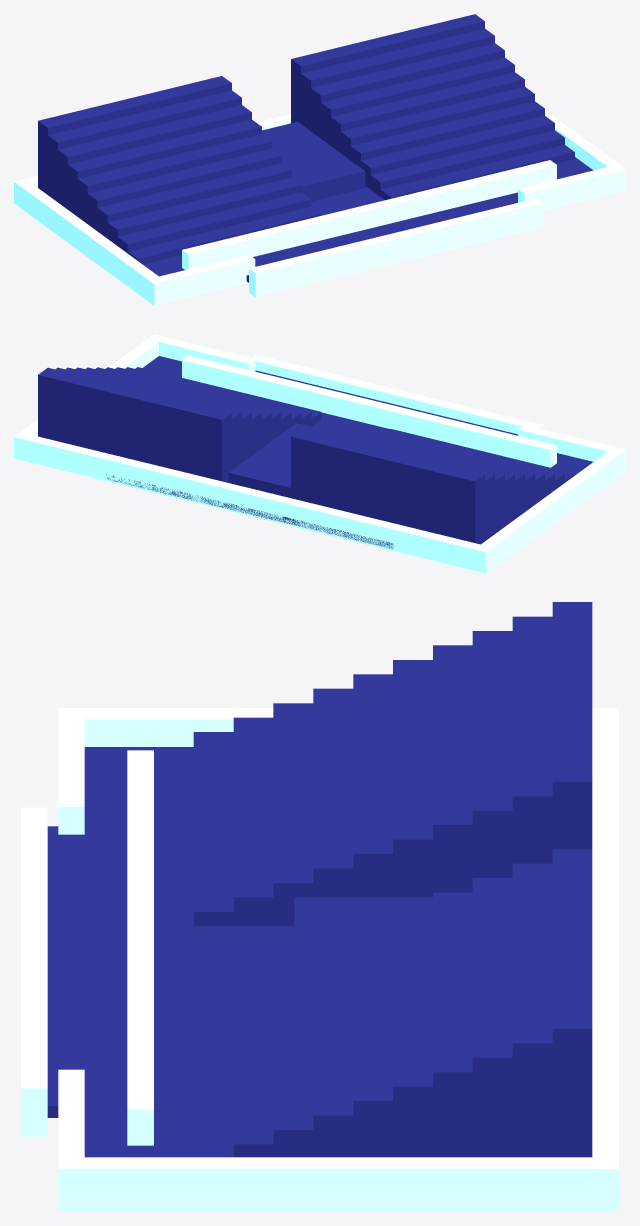
Rendered from Grandstand.fbx.
The picture shows the model from 3 angles, top to bottom: view 1: azimuth 30°, elevation 25°; view 2: azimuth 150°, elevation 25°; view 3: azimuth 270°, elevation 25°; orthographic projection. The views are drawn at different scales.
Visible parts, largest first — view 1: Stairs, Stairs__1_, Cube, Cube__12_, Cube__3_, Cube__11_, Cube__8_, Cube__1_, Cube__2_, Cube__4_, Cube__5_, Cube__9_ (+1 smaller); view 2: Stairs, Stairs__1_, Cube__5_, Cube__12_, Cube__3_, Cube, Cube__11_, Cube__8_, Cube__1_, Cube__2_, Cube__4_, Cube__10_ (+1 smaller); view 3: Stairs__1_, Stairs, Cube__8_, Cube__4_, Cube__5_, Cube__12_, Cube, Cube__9_, Cube__3_, Cube__10_, Cube__11_, Cube__1_ (+1 smaller).
Boxes of the visible parts, x1,y1,x2,y2 form: Stairs: [38, 76, 321, 264]; Stairs__1_: [291, 14, 574, 200]; Cube: [249, 198, 543, 297]; Cube__12_: [182, 160, 556, 269]; Cube__3_: [20, 183, 165, 305]; Cube__11_: [262, 121, 367, 200]; Cube__8_: [246, 187, 517, 282]; Cube__1_: [159, 254, 255, 303]; Cube__2_: [518, 167, 614, 210]; Cube__4_: [545, 110, 625, 193]; Cube__5_: [14, 114, 290, 206]; Cube__9_: [143, 255, 184, 276]; Stairs: [291, 429, 574, 544]; Stairs__1_: [38, 367, 321, 482]; Cube__5_: [14, 433, 491, 573]; Cube__12_: [182, 355, 556, 467]; Cube__3_: [480, 446, 625, 568]; Cube: [251, 355, 543, 434]; Cube__11_: [228, 423, 320, 497]; Cube__8_: [106, 370, 517, 548]; Cube__1_: [518, 425, 613, 461]; Cube__2_: [159, 337, 255, 371]; Cube__4_: [20, 334, 165, 436]; Cube__10_: [142, 356, 181, 377]; Stairs__1_: [193, 849, 592, 1157]; Stairs: [193, 602, 592, 926]; Cube__8_: [47, 826, 294, 1117]; Cube__4_: [58, 1157, 594, 1211]; Cube__5_: [592, 708, 618, 1211]; Cube__12_: [127, 750, 153, 1145]; Cube: [21, 807, 47, 1136]; Cube__9_: [84, 747, 193, 826]; Cube__3_: [58, 708, 594, 746]; Cube__10_: [84, 1103, 193, 1157]; Cube__11_: [294, 897, 432, 950]; Cube__1_: [58, 719, 84, 834].
Size of the model in its own units: 4100 by 750 by 2250.
